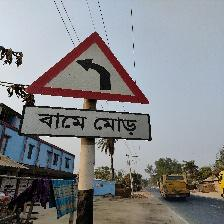Left-Turn: (18, 33, 151, 138)
